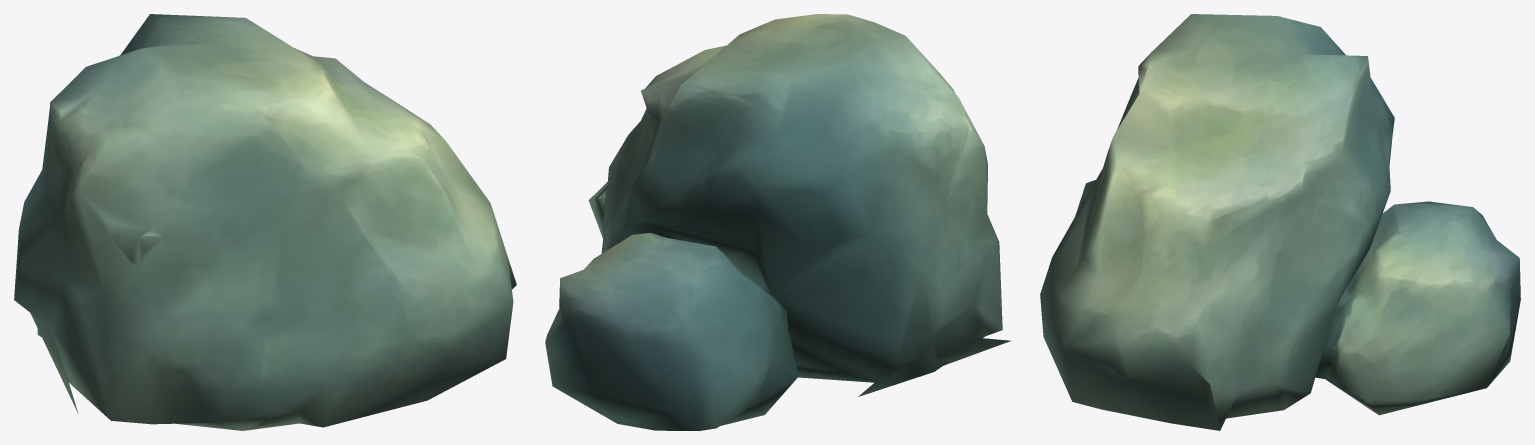
File: model_raw.glb
3 views of the same model, side by side, from view 1: azimuth 30°, elevation 25°; view 2: azimuth 150°, elevation 25°; view 3: azimuth 270°, elevation 25° (orthographic). The views are drawn at different scales.
Visible parts, largest first — view 1: tripo_node_1e7c9ab5-0ebd-4210-8645-6d4d71d68fef; view 2: tripo_node_1e7c9ab5-0ebd-4210-8645-6d4d71d68fef; view 3: tripo_node_1e7c9ab5-0ebd-4210-8645-6d4d71d68fef.
Part boxes in pixels (left/top/right/bottom): tripo_node_1e7c9ab5-0ebd-4210-8645-6d4d71d68fef: left=14, top=14, right=516, bottom=430; tripo_node_1e7c9ab5-0ebd-4210-8645-6d4d71d68fef: left=545, top=14, right=1011, bottom=430; tripo_node_1e7c9ab5-0ebd-4210-8645-6d4d71d68fef: left=1040, top=14, right=1520, bottom=430.
Size of the model in its own units: 0.9492 by 0.681 by 1.
Materials: 1 (1 with a texture image).
